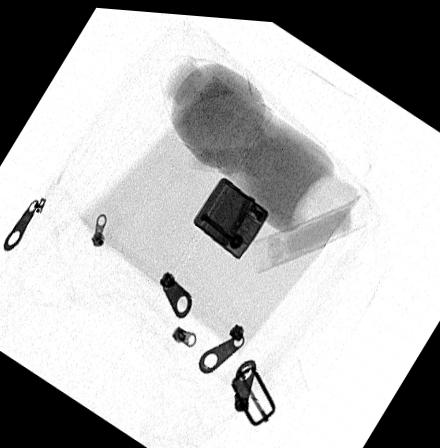Lighter: (189, 172, 267, 256)
